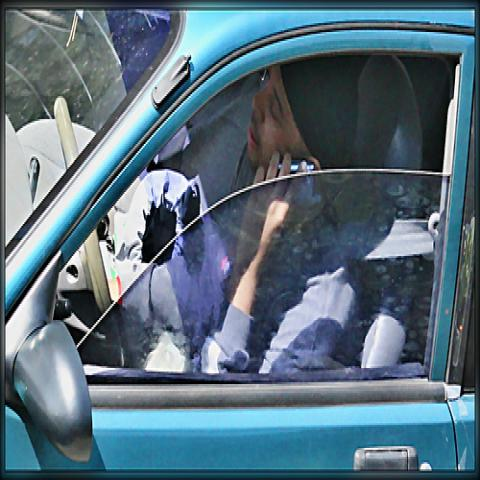car: (4, 6, 474, 470)
